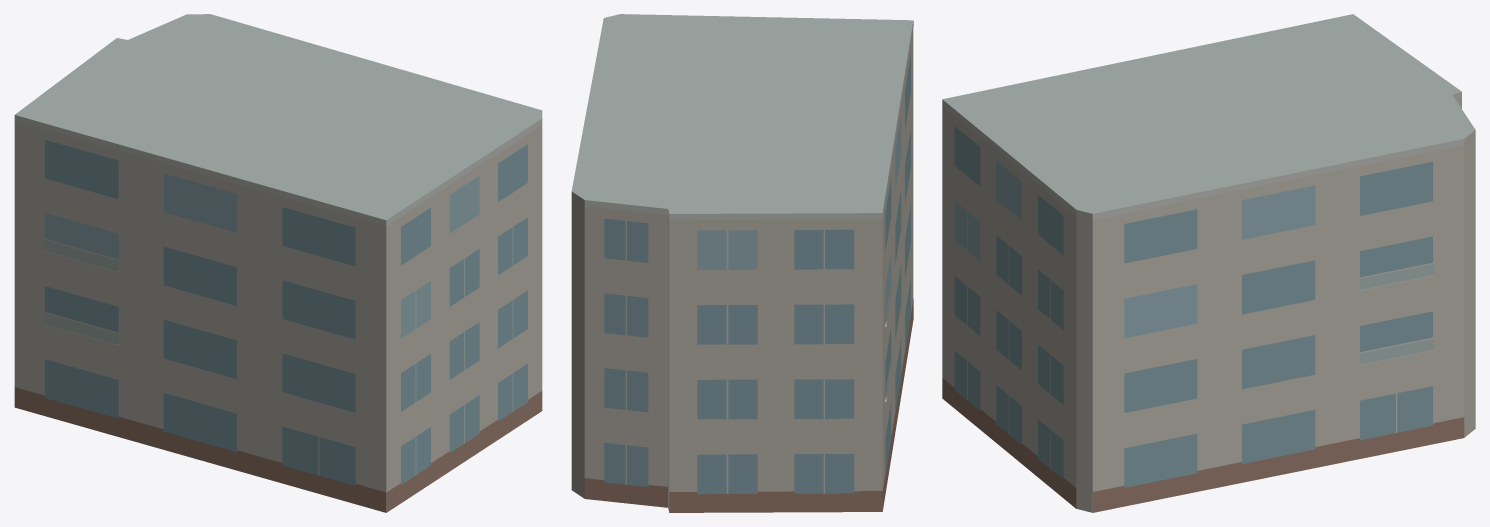
The model's file is survey-upis-33045486.glb.
3 renders of one model, left to right at view 1: azimuth 30°, elevation 25°; view 2: azimuth 150°, elevation 25°; view 3: azimuth 270°, elevation 25°, orthographic. The views are drawn at different scales.
Visible parts, largest first — view 1: survey-upis-33045486.tmp; view 2: survey-upis-33045486.tmp; view 3: survey-upis-33045486.tmp.
Part boxes in pixels (x1=…): survey-upis-33045486.tmp: x1=14, y1=14, x2=542, y2=512; survey-upis-33045486.tmp: x1=571, y1=14, x2=913, y2=512; survey-upis-33045486.tmp: x1=942, y1=14, x2=1475, y2=512.
Size of the model in its own units: 16.77 by 11.7 by 18.92.
